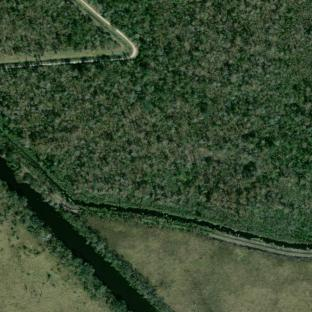Floresta: (0, 0, 312, 241), (60, 204, 174, 312), (0, 0, 121, 62)
